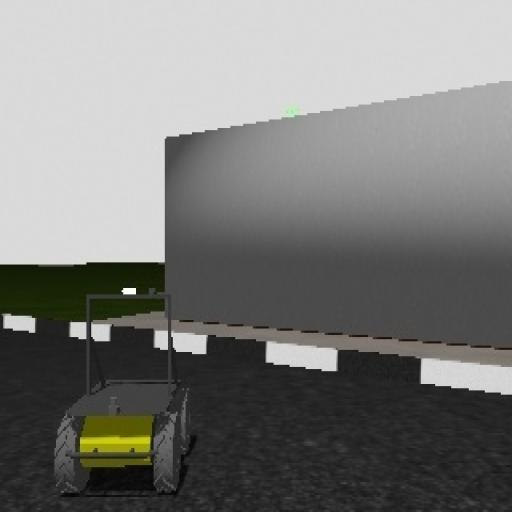huskya200: (47, 282, 201, 504)
